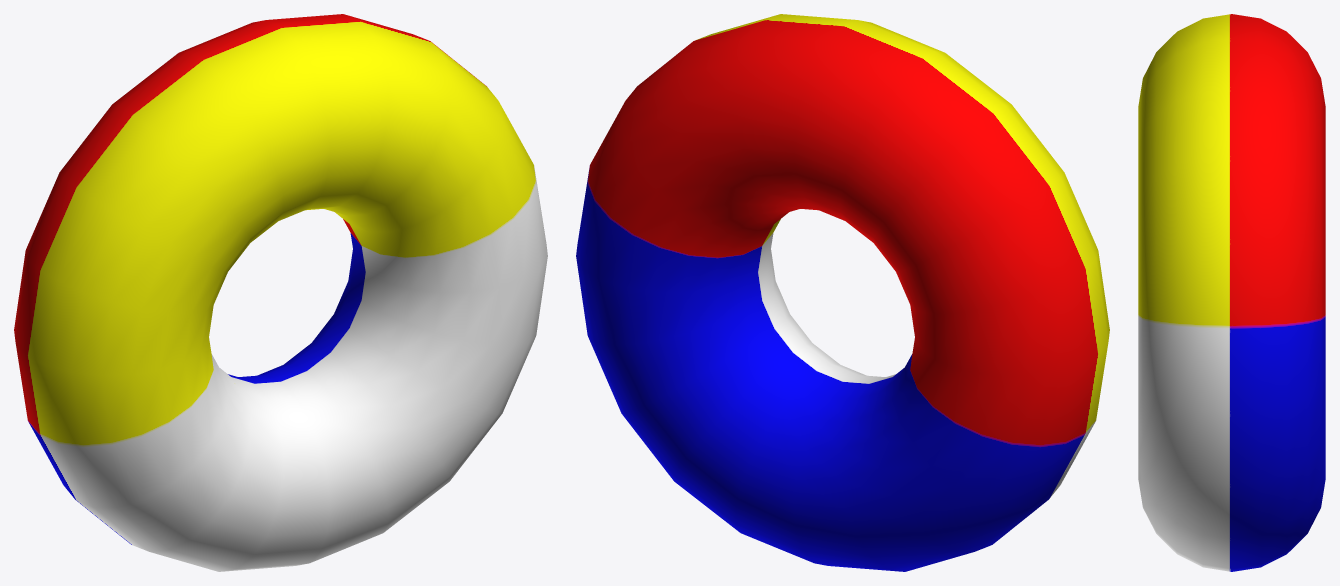
The model's file is notphon.fbx.
3 renders of one model, left to right at view 1: azimuth 30°, elevation 25°; view 2: azimuth 150°, elevation 25°; view 3: azimuth 270°, elevation 25°, orthographic. The views are drawn at different scales.
Parts seen in each view (by area): view 1: pTorus1; view 2: pTorus1; view 3: pTorus1.
Boxes of the visible parts, x1=… form: pTorus1: x1=14, y1=14, x2=547, y2=571; pTorus1: x1=576, y1=14, x2=1109, y2=571; pTorus1: x1=1138, y1=14, x2=1325, y2=571.
Bounding box in the file's own units: 3 × 3 × 1.
Materials: 1 (1 with a texture image).
